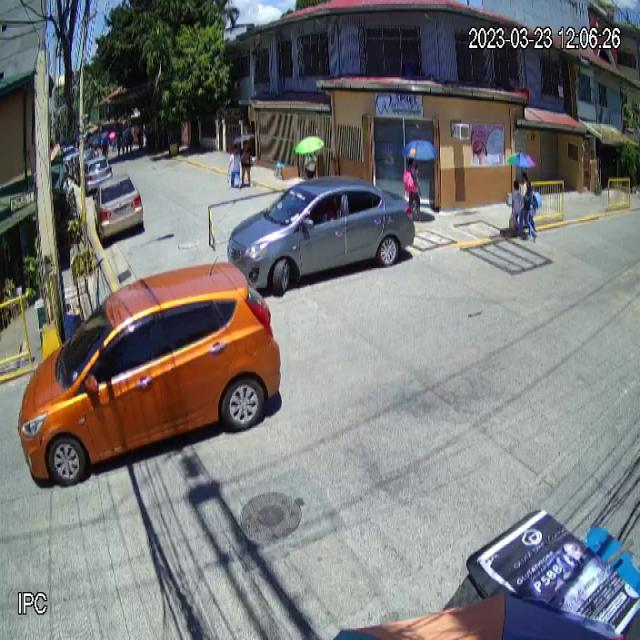Car: (18, 260, 282, 488), (226, 183, 416, 296), (93, 172, 145, 244)
